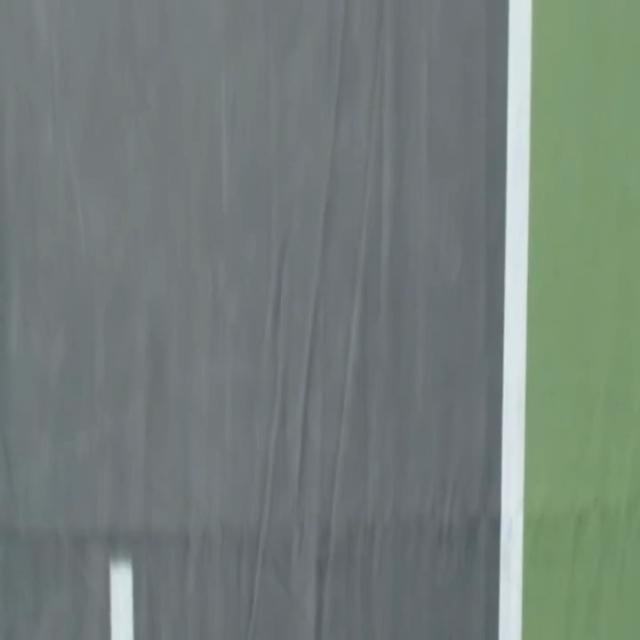center: (109, 558, 133, 639)
right: (500, 0, 532, 639)
